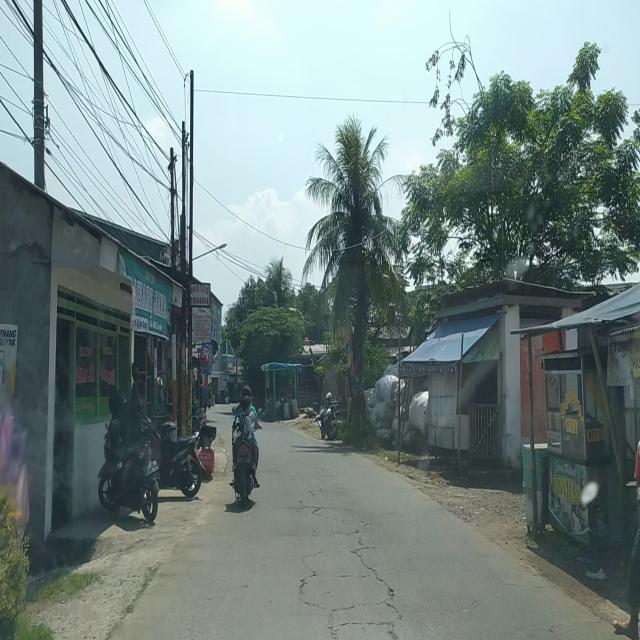Drain Hole: (292, 487, 404, 640)
